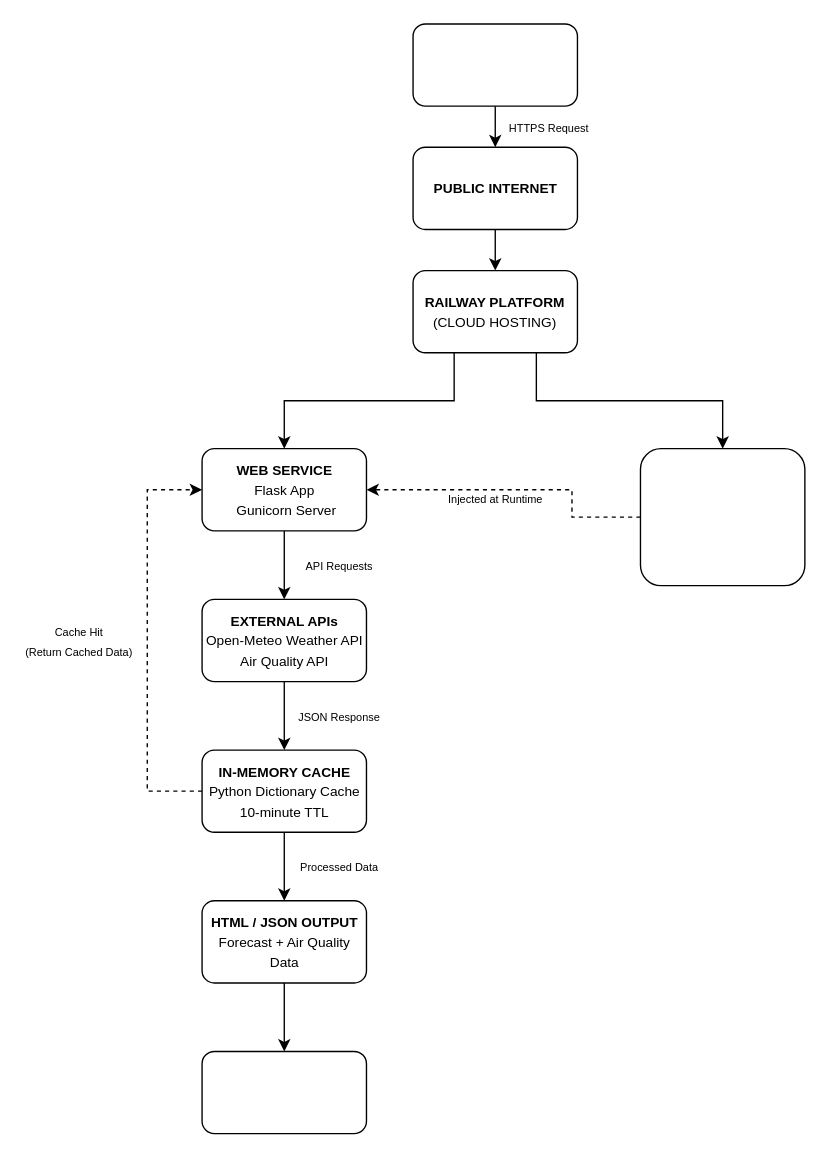
Some shapes in this 836 by 1158 pixel diagram are drawn without their labels. The box of each missing label's shape, as (x1, y1, x2, y2) in pixels:
ENVIRONMENT VARIABLES Secrets / Config API Keys Database URLs Other Setting: (639, 447, 805, 586)
USERS Browser Displays Data: (201, 1050, 366, 1134)
USERS Web Browser / Mobile: (412, 23, 577, 106)
